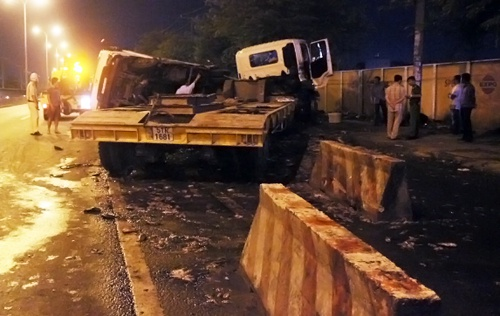police: (19, 71, 46, 139)
